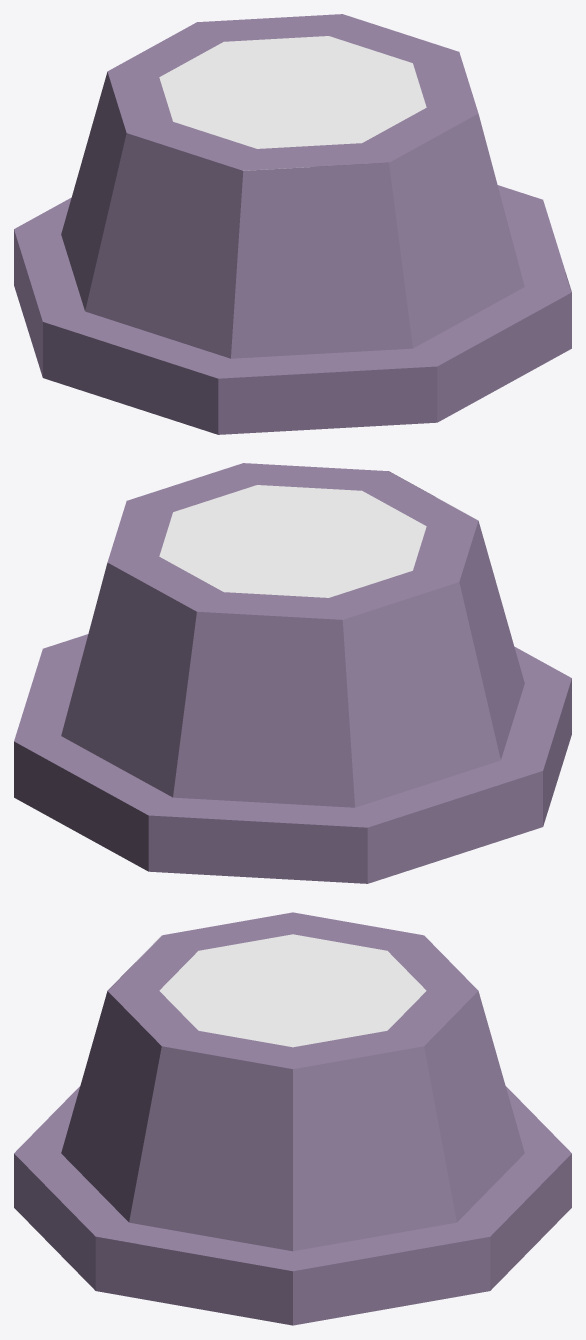
File: Teleport_ReceptionRoom.glb
The picture shows the model from 3 angles, top to bottom: view 1: azimuth 30°, elevation 25°; view 2: azimuth 150°, elevation 25°; view 3: azimuth 270°, elevation 25°; orthographic projection. The views are drawn at different scales.
Parts seen in each view (by area): view 1: Circle; view 2: Circle; view 3: Circle.
Part boxes in pixels (x1,y1,x2,y2): Circle: (14,14,571,434); Circle: (14,463,571,883); Circle: (14,912,571,1325).
Bounding box in the file's own units: 1.05 × 0.4497 × 1.05.
1 material, 1 textured.
